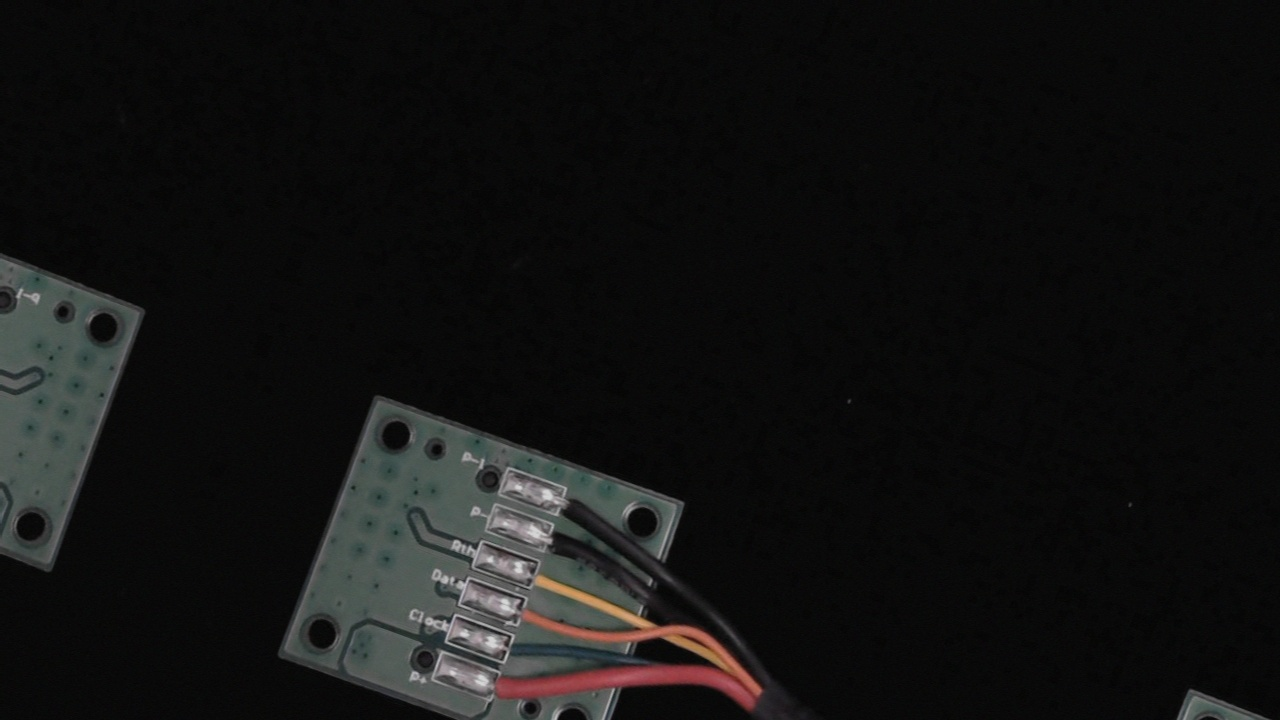Black: (525, 516, 605, 573)
Black1: (538, 477, 612, 531)
Green: (481, 624, 550, 677)
Orange: (495, 589, 574, 644)
Red: (470, 661, 548, 717)
Yellow: (512, 549, 593, 607)
